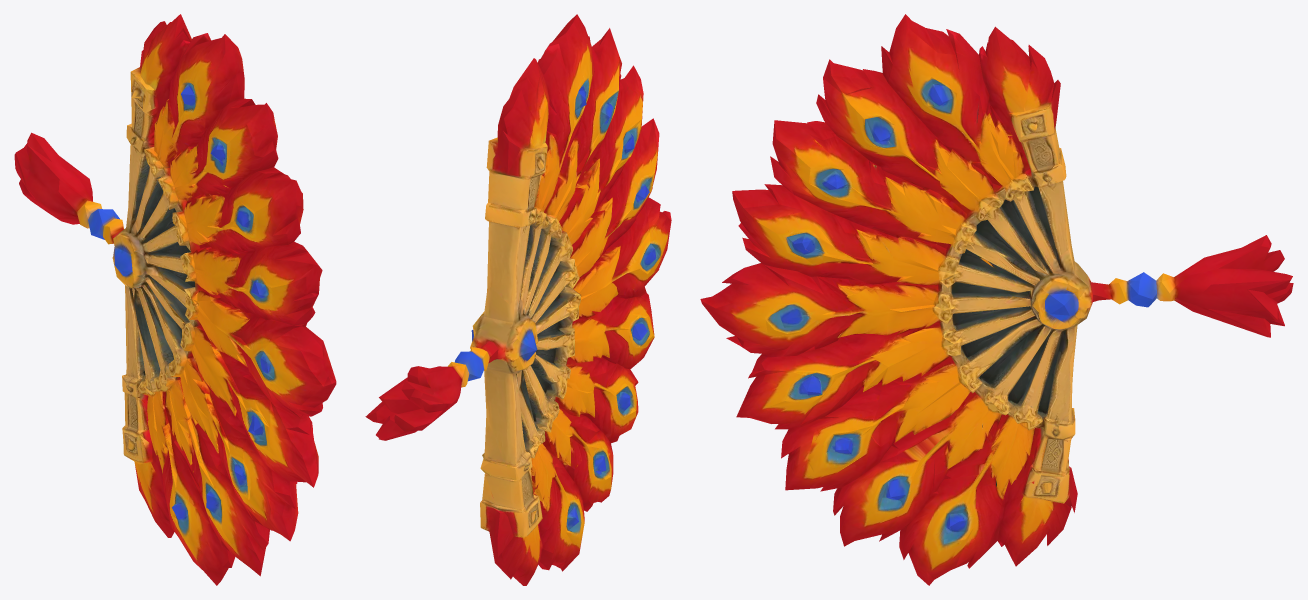
File: shaman_fan_t1.7a1380dc.glb
The picture shows the model from 3 angles, left to right: view 1: azimuth 30°, elevation 25°; view 2: azimuth 150°, elevation 25°; view 3: azimuth 270°, elevation 25°; orthographic projection. The views are drawn at different scales.
Parts seen in each view (by area): view 1: tripo_node_58d3a19d-ecc4-4508-abc8-ed8230f6d17b; view 2: tripo_node_58d3a19d-ecc4-4508-abc8-ed8230f6d17b; view 3: tripo_node_58d3a19d-ecc4-4508-abc8-ed8230f6d17b.
Part boxes in pixels (x1=…): tripo_node_58d3a19d-ecc4-4508-abc8-ed8230f6d17b: x1=14, y1=14, x2=336, y2=585; tripo_node_58d3a19d-ecc4-4508-abc8-ed8230f6d17b: x1=365, y1=14, x2=671, y2=585; tripo_node_58d3a19d-ecc4-4508-abc8-ed8230f6d17b: x1=700, y1=14, x2=1293, y2=585.
Size of the model in its own units: 0.0879 by 0.7004 by 0.6603.
Materials: 1 (1 with a texture image).
